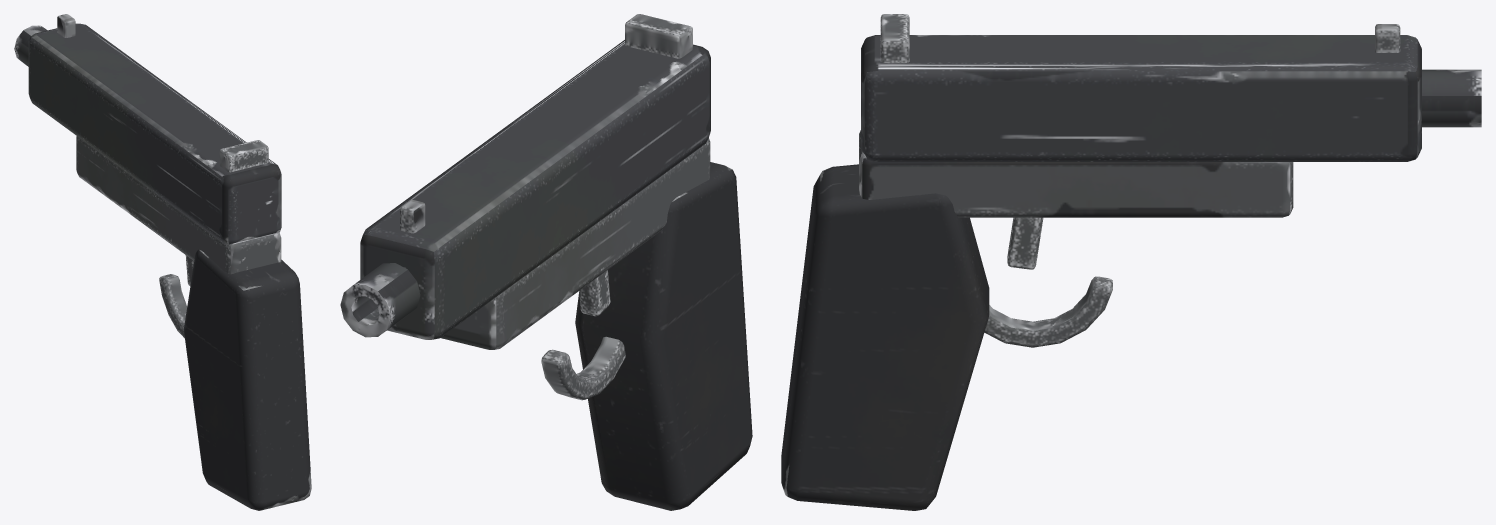
Rendered from handgun.glb.
3 views of the same model, side by side, from view 1: azimuth 30°, elevation 25°; view 2: azimuth 150°, elevation 25°; view 3: azimuth 270°, elevation 25° (orthographic). The views are drawn at different scales.
Parts seen in each view (by area): view 1: Handgun_Grip, Handgun_Slide, Handgun_Frame, Handgun_Rearsight, Handgun_Guard, Handgun_Muzzle, Handgun_Foresight; view 2: Handgun_Slide, Handgun_Grip, Handgun_Frame, Handgun_Muzzle, Handgun_Guard, Handgun_Rearsight, Handgun_Trigger, Handgun_Foresight; view 3: Handgun_Slide, Handgun_Grip, Handgun_Frame, Handgun_Guard, Handgun_Muzzle, Handgun_Trigger, Handgun_Rearsight.
Boxes of the visible parts, x1,y1,x2,y2 form: Handgun_Grip: (183, 249, 311, 510); Handgun_Slide: (28, 23, 281, 244); Handgun_Frame: (76, 136, 281, 274); Handgun_Rearsight: (219, 140, 268, 172); Handgun_Guard: (159, 274, 187, 338); Handgun_Muzzle: (14, 25, 47, 66); Handgun_Foresight: (57, 14, 75, 37); Handgun_Slide: (360, 40, 710, 339); Handgun_Grip: (575, 162, 752, 510); Handgun_Frame: (441, 138, 710, 349); Handgun_Muzzle: (340, 263, 420, 337); Handgun_Guard: (541, 336, 625, 400); Handgun_Rearsight: (625, 14, 692, 58); Handgun_Trigger: (579, 270, 610, 316); Handgun_Foresight: (400, 200, 425, 233); Handgun_Slide: (861, 35, 1421, 161); Handgun_Grip: (781, 164, 989, 510); Handgun_Frame: (859, 130, 1293, 217); Handgun_Guard: (984, 276, 1112, 347); Handgun_Muzzle: (1422, 69, 1481, 127); Handgun_Trigger: (1007, 217, 1043, 269); Handgun_Rearsight: (880, 14, 909, 62).
Bounding box in the file's own units: 0.028 × 0.1435 × 0.1935.
1 material, 1 textured.
